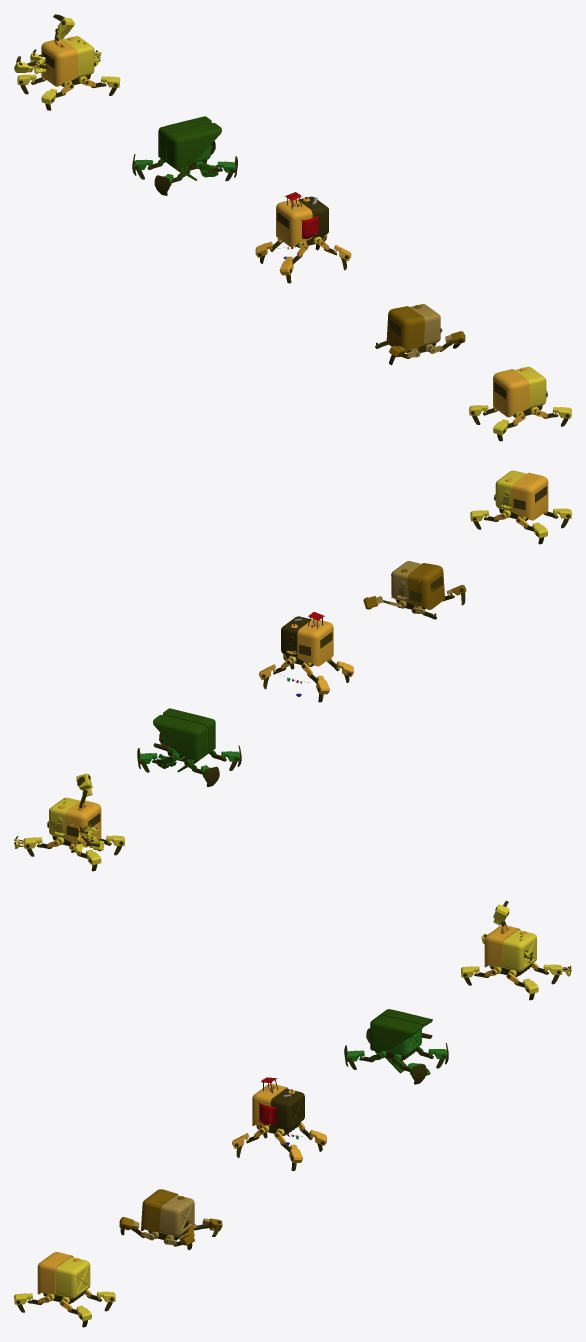
Rendered from XYZ_HW_vtorichnyeformi.fbx.
The picture shows the model from 3 angles, top to bottom: view 1: azimuth 30°, elevation 25°; view 2: azimuth 150°, elevation 25°; view 3: azimuth 330°, elevation 25°; orthographic projection.
Visible parts, largest first — view 1: Куб.052, Куб.012, Куб.022, Куб.062, Куб.037, Куб.006, Куб.056, Куб.016, Куб.031; view 2: Куб.052, Куб.012, Куб.022, Куб.037, Куб.062, Куб.056, Куб.006, Куб.016, Куб.031; view 3: Куб.052, Куб.006, Куб.016, Куб.056, Куб.031, Куб.022, Куб.012, Куб.062, Куб.037.
Part boxes in pixels (bbox=[...]): Куб.052: bbox=[158, 116, 221, 168]; Куб.012: bbox=[493, 369, 529, 417]; Куб.022: bbox=[386, 306, 424, 353]; Куб.062: bbox=[41, 39, 77, 86]; Куб.037: bbox=[276, 199, 312, 247]; Куб.006: bbox=[515, 366, 546, 408]; Куб.056: bbox=[54, 36, 94, 77]; Куб.016: bbox=[410, 304, 440, 345]; Куб.031: bbox=[297, 196, 328, 238]; Куб.052: bbox=[153, 708, 215, 760]; Куб.012: bbox=[512, 472, 548, 520]; Куб.022: bbox=[407, 563, 444, 609]; Куб.037: bbox=[297, 619, 333, 666]; Куб.062: bbox=[65, 800, 101, 847]; Куб.056: bbox=[49, 797, 90, 840]; Куб.006: bbox=[495, 470, 526, 511]; Куб.016: bbox=[391, 561, 421, 602]; Куб.031: bbox=[281, 616, 311, 657]; Куб.052: bbox=[370, 1009, 432, 1052]; Куб.006: bbox=[55, 1257, 90, 1298]; Куб.016: bbox=[158, 1195, 194, 1236]; Куб.056: bbox=[500, 929, 536, 971]; Куб.031: bbox=[269, 1088, 304, 1130]; Куб.022: bbox=[141, 1189, 177, 1231]; Куб.012: bbox=[37, 1252, 73, 1294]; Куб.062: bbox=[484, 925, 520, 967]; Куб.037: bbox=[252, 1083, 288, 1125].
Size of the model in its own units: 387 by 347 by 3702.
